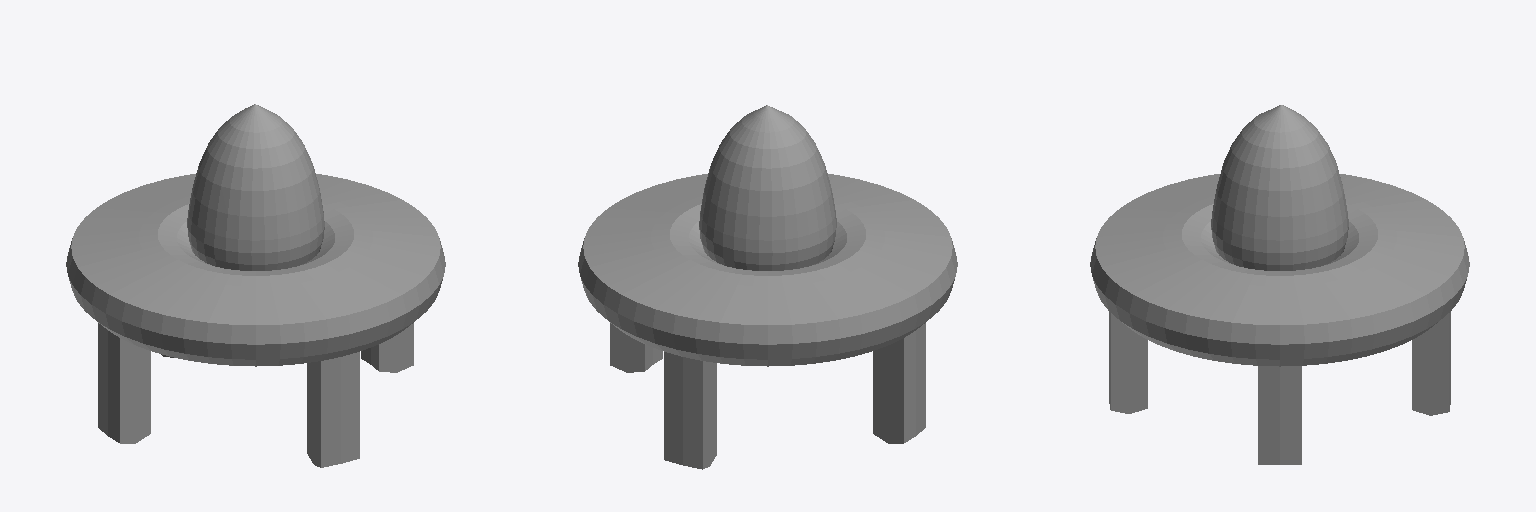
File: port_occ.obj
3 renders of one model, left to right at view 1: azimuth 30°, elevation 25°; view 2: azimuth 150°, elevation 25°; view 3: azimuth 270°, elevation 25°, orthographic.
Visible parts, largest first — view 1: Torus; view 2: Torus; view 3: Torus.
Part boxes in pixels (x1,y1,x2,y2): Torus: (66,104,445,467); Torus: (578,105,957,469); Torus: (1090,105,1469,464).
Size of the model in its own units: 0.9037 by 0.7956 by 0.9037.